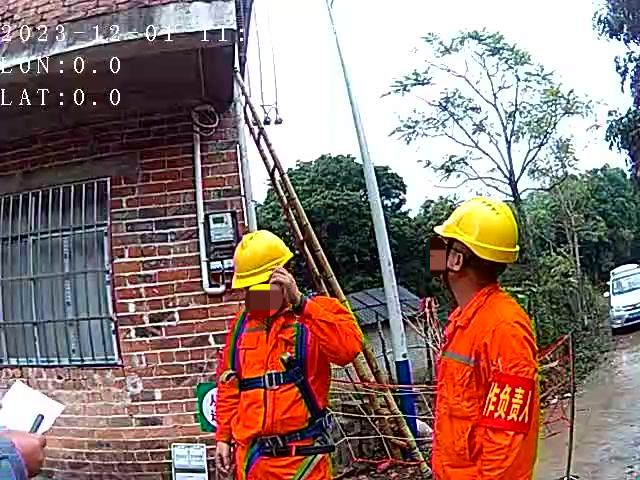halt: (435, 199, 523, 296), (234, 232, 298, 309)
inear: (440, 241, 477, 282)
